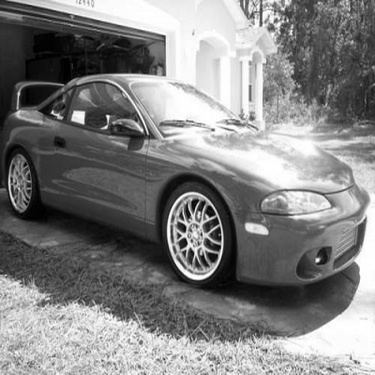car: (4, 66, 374, 294)
